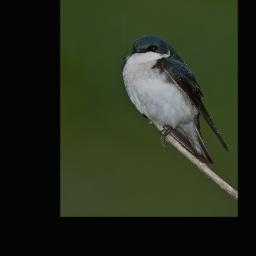Swallow: (119, 31, 229, 166)
